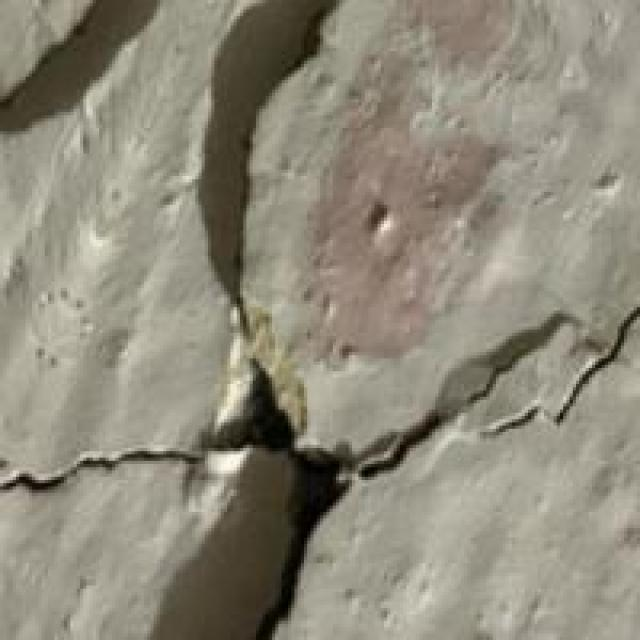Crack: (5, 3, 616, 602)
